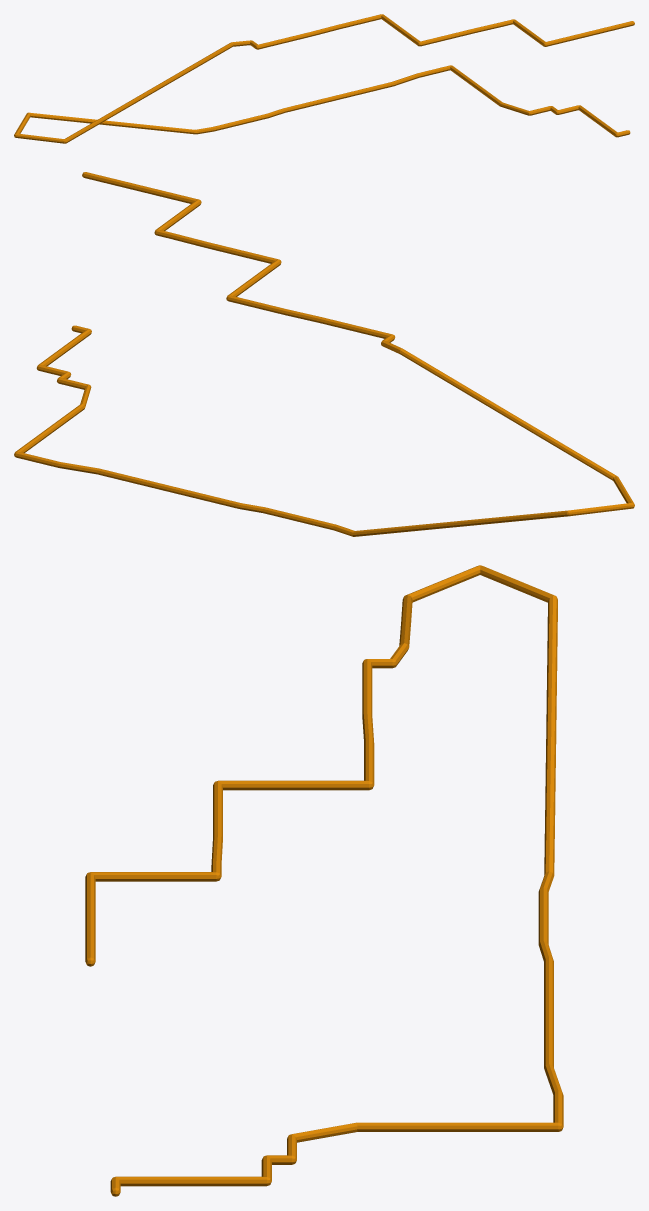
3 views of the same model, one above another, from view 1: azimuth 30°, elevation 25°; view 2: azimuth 150°, elevation 25°; view 3: azimuth 270°, elevation 25° (orthographic). The views are drawn at different scales.
Size of the model in its own units: 2406 by 520 by 949.
